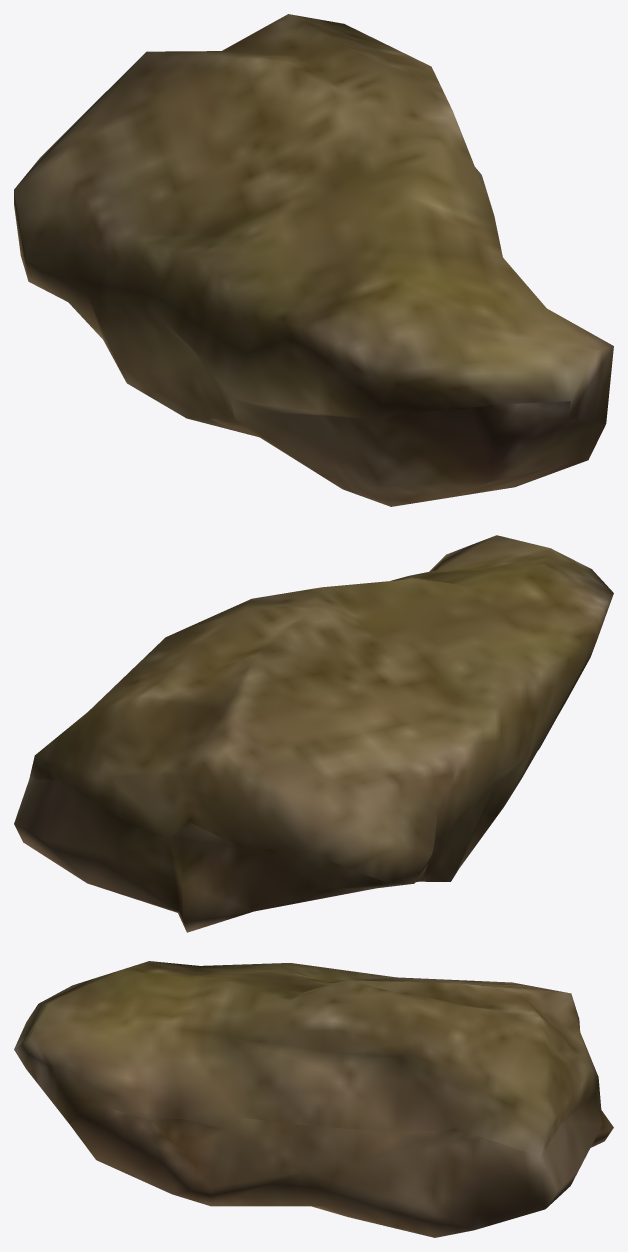
File: moss_c_far.glb
3 renders of one model, top to bottom at view 1: azimuth 30°, elevation 25°; view 2: azimuth 150°, elevation 25°; view 3: azimuth 270°, elevation 25°, orthographic. The views are drawn at different scales.
Parts seen in each view (by area): view 1: rock_moss_set_01_rock05; view 2: rock_moss_set_01_rock05; view 3: rock_moss_set_01_rock05.
Boxes of the visible parts, x1,y1,x2,y2 form: rock_moss_set_01_rock05: (14,14,613,506); rock_moss_set_01_rock05: (14,535,613,932); rock_moss_set_01_rock05: (14,961,613,1237).
Size of the model in its own units: 1.8 by 1.19 by 2.99.
1 material, 1 textured.
